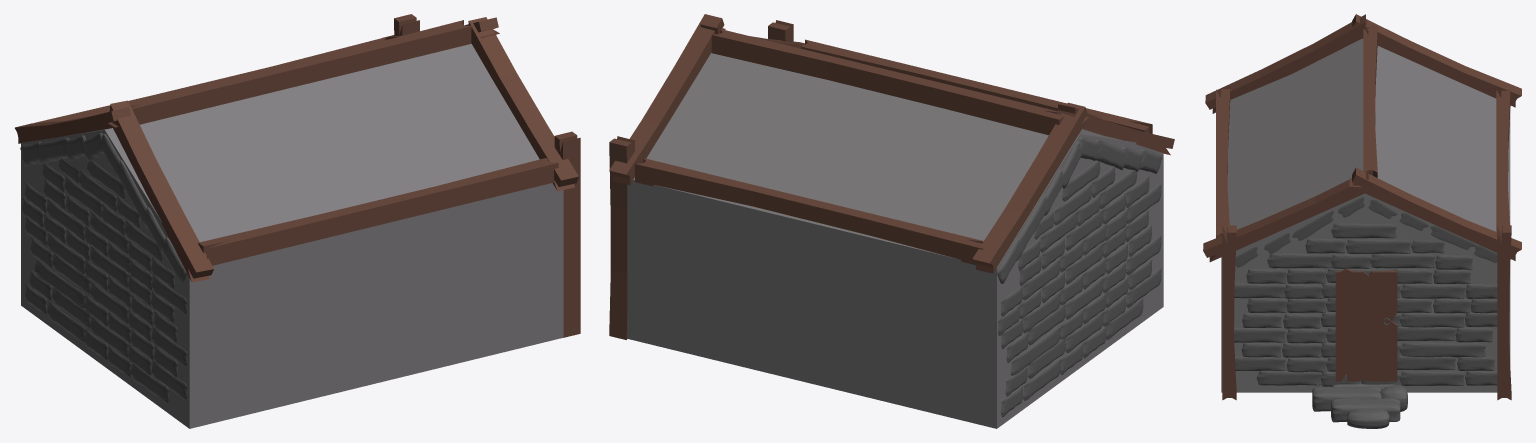
3 renders of one model, left to right at view 1: azimuth 30°, elevation 25°; view 2: azimuth 150°, elevation 25°; view 3: azimuth 270°, elevation 25°, orthographic. The views are drawn at different scales.
Visible parts, largest first — view 1: Cube, Cube.134, Cube.130, Cube.132, Cube.129, Cube.126, Cube.131, Cube.133, Cube.097, Cube.077, Cube.098, Cube.119 (+16 smaller); view 2: Cube, Cube.130, Cube.133, Cube.131, Cube.128, Cube.127, Cube.134, Cube.132, Cube.097, Cube.070, Cube.098, Cube.100 (+16 smaller); view 3: Cube, Cube.001, Cube.128, Cube.132, Cube.131, Cube.129, Cube.126, Cube.127, Cube.130, Cube.134, Cube.133, Cube.020 (+46 smaller).
Part boxes in pixels (left/top/right/bottom): Cube: left=21, top=44, right=563, bottom=428; Cube.134: left=198, top=158, right=558, bottom=265; Cube.130: left=129, top=20, right=472, bottom=124; Cube.132: left=109, top=100, right=213, bottom=282; Cube.129: left=468, top=17, right=578, bottom=191; Cube.126: left=554, top=131, right=580, bottom=337; Cube.131: left=15, top=107, right=130, bottom=143; Cube.133: left=34, top=37, right=386, bottom=123; Cube.097: left=34, top=259, right=85, bottom=308; Cube.077: left=117, top=159, right=148, bottom=228; Cube.098: left=46, top=199, right=84, bottom=240; Cube.119: left=78, top=170, right=116, bottom=211; Cube: left=627, top=53, right=1163, bottom=428; Cube.130: left=711, top=29, right=1064, bottom=135; Cube.133: left=635, top=158, right=983, bottom=265; Cube.131: left=972, top=102, right=1088, bottom=273; Cube.128: left=609, top=14, right=725, bottom=184; Cube.127: left=609, top=136, right=634, bottom=339; Cube.134: left=801, top=39, right=1152, bottom=133; Cube.132: left=1057, top=104, right=1174, bottom=155; Cube.097: left=1010, top=326, right=1060, bottom=375; Cube.070: left=1065, top=277, right=1103, bottom=319; Cube.098: left=1022, top=258, right=1060, bottom=300; Cube.100: left=1023, top=358, right=1060, bottom=400; Cube: left=1221, top=38, right=1510, bottom=392; Cube.001: left=1335, top=268, right=1397, bottom=381; Cube.128: left=1349, top=167, right=1521, bottom=260; Cube.132: left=1205, top=14, right=1368, bottom=113; Cube.131: left=1352, top=14, right=1521, bottom=107; Cube.129: left=1203, top=170, right=1368, bottom=261; Cube.126: left=1222, top=225, right=1236, bottom=400; Cube.127: left=1497, top=225, right=1511, bottom=400; Cube.130: left=1363, top=25, right=1377, bottom=177; Cube.134: left=1216, top=89, right=1230, bottom=239; Cube.133: left=1496, top=89, right=1510, bottom=233; Cube.020: left=1399, top=342, right=1486, bottom=357.
Bounding box in the file's own units: 3639 × 2184 × 2670.
